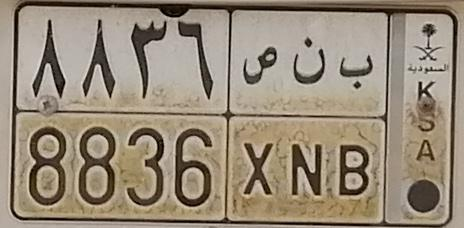3: (125, 18, 169, 206)
6: (174, 19, 218, 207)
8: (78, 17, 117, 206), (29, 17, 67, 207)
B: (338, 53, 375, 195)
N: (290, 37, 325, 199)
X: (240, 45, 279, 197)
